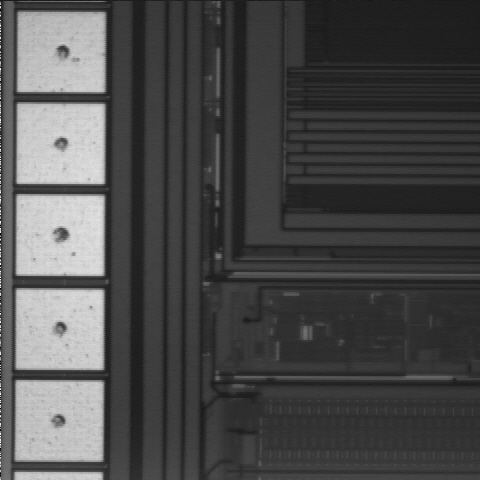pad: (17, 195, 104, 276), (18, 12, 105, 92), (17, 104, 104, 184), (16, 290, 103, 370), (16, 381, 103, 461)
